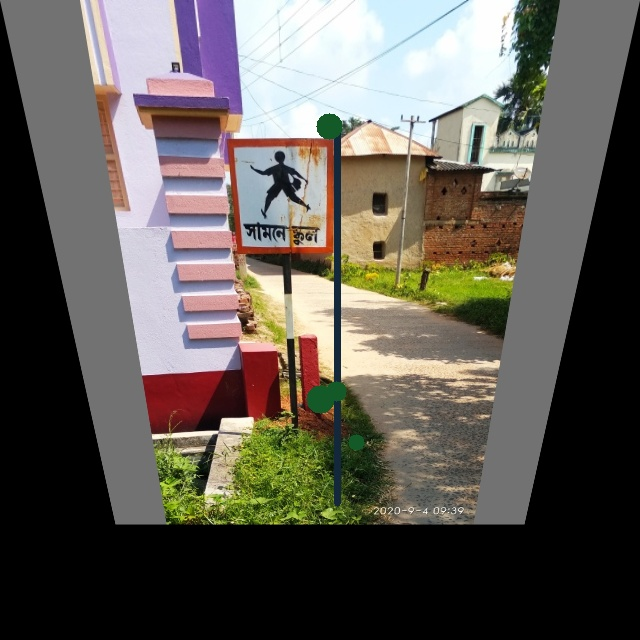School_Ahead: (233, 139, 332, 250)
